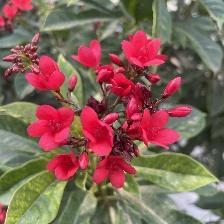jatropha: (29, 102, 80, 151), (81, 106, 122, 158), (122, 31, 167, 70)
